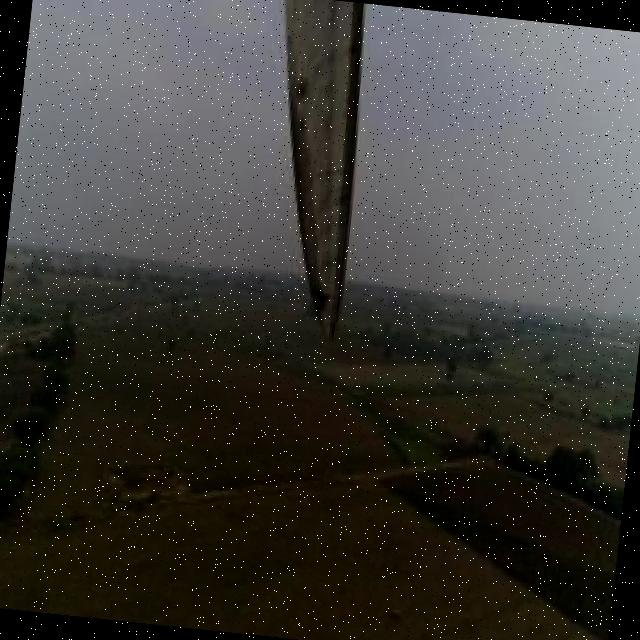Dirt: (287, 0, 367, 343)
Oil LEAKAGE: (335, 0, 363, 312), (290, 71, 314, 316)
